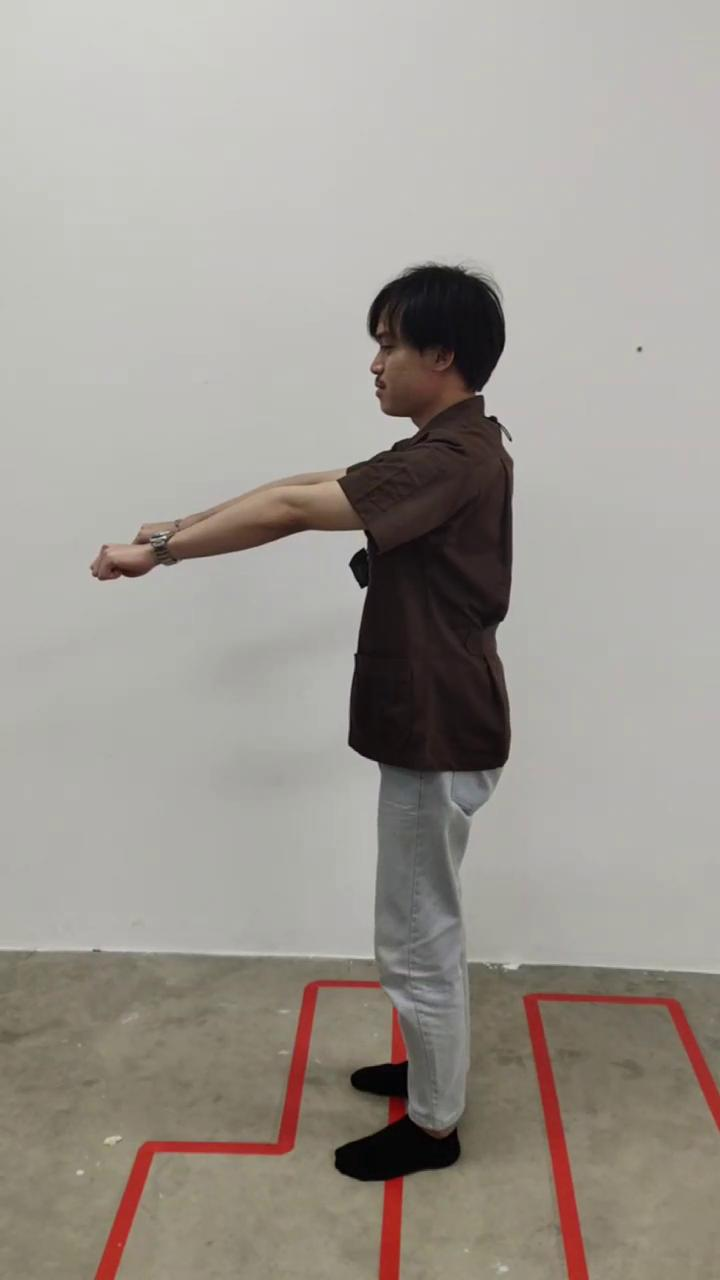squat up: (90, 265, 512, 1180)
